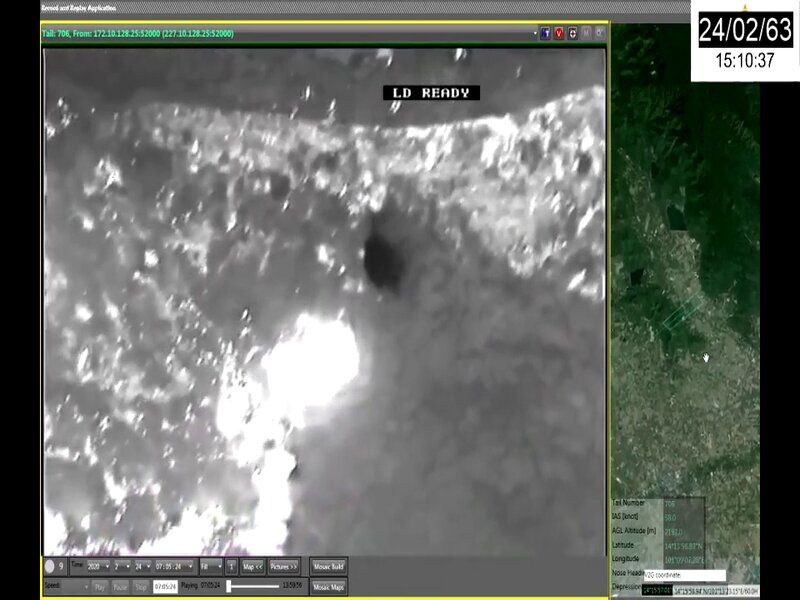Fire: (137, 311, 360, 556)
